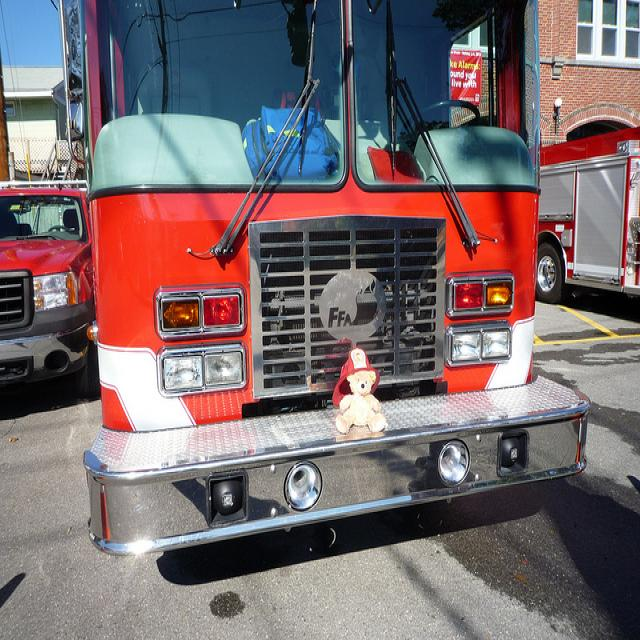Vehicle: (76, 4, 594, 567), (0, 182, 96, 394), (539, 128, 638, 292)
